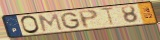8: (121, 6, 139, 25)
G: (60, 12, 83, 30)
M: (38, 13, 64, 32)
O: (20, 15, 42, 35)
P: (77, 9, 100, 29)
T: (99, 7, 117, 27)
